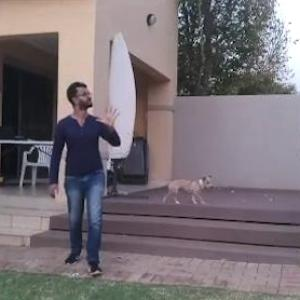follow_hand: (94, 100, 124, 130)
